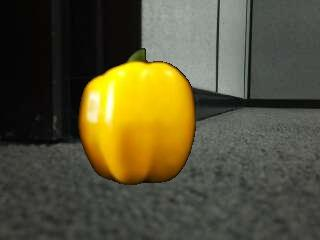Capsicum: (80, 50, 198, 187)
